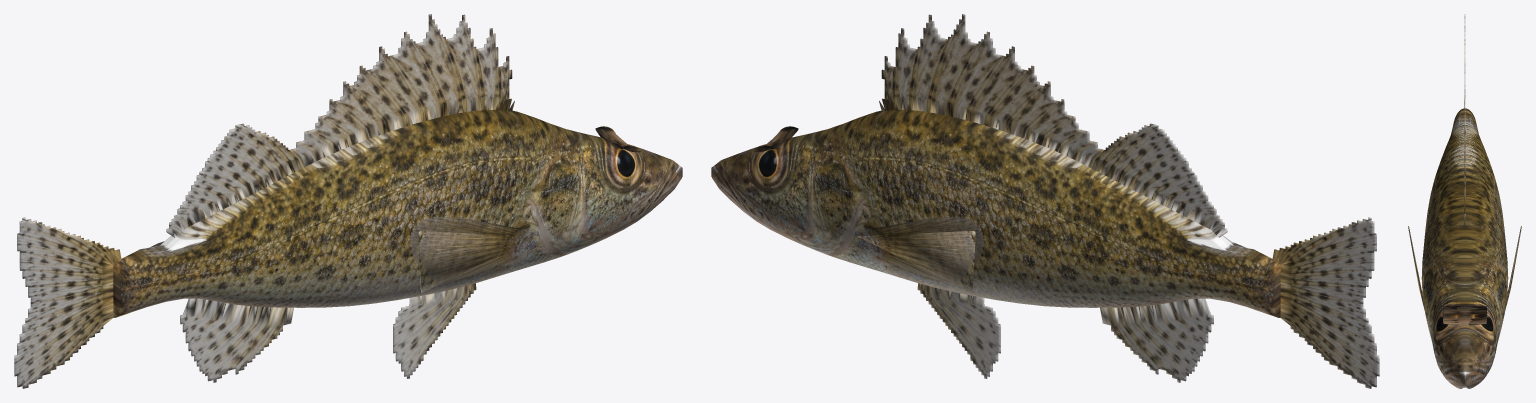
The model's file is ruffe.glb.
3 views of the same model, side by side, from view 1: azimuth 30°, elevation 25°; view 2: azimuth 150°, elevation 25°; view 3: azimuth 270°, elevation 25° (orthographic). The views are drawn at different scales.
Visible parts, largest first — view 1: ruffe_realistic.001; view 2: ruffe_realistic.001; view 3: ruffe_realistic.001.
Boxes of the visible parts, box(x1,y1,x2,y2) form: ruffe_realistic.001: box(14, 14, 682, 388); ruffe_realistic.001: box(711, 14, 1379, 388); ruffe_realistic.001: box(1408, 14, 1521, 388).
Size of the model in its own units: 1 by 0.5131 by 0.1761.
3 materials, 3 textured.
